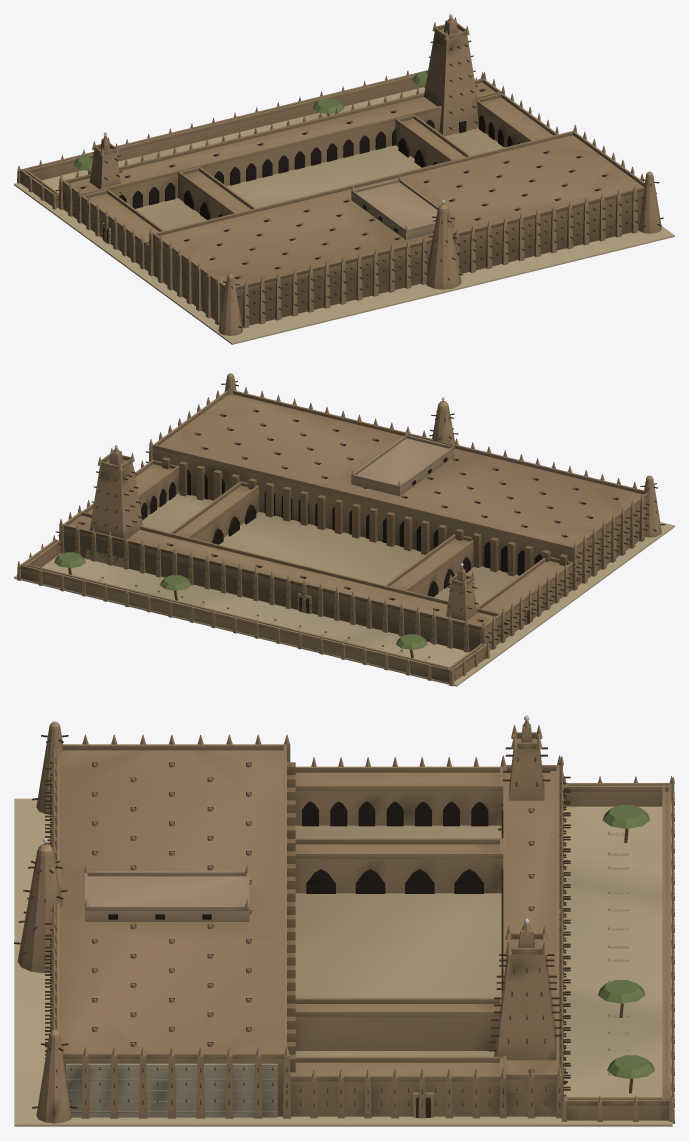
File: djinguereber-1700.glb
3 views of the same model, one above another, from view 1: azimuth 30°, elevation 25°; view 2: azimuth 150°, elevation 25°; view 3: azimuth 270°, elevation 25° (orthographic). The views are drawn at different scales.
Visible parts, largest first — view 1: p1_walls, p0_ground, p3_minaret, p2_roof; view 2: p1_walls, p0_ground, p2_roof, p3_minaret; view 3: p1_walls, p0_ground, p3_minaret, p2_roof.
Boxes of the visible parts, left/top/right/bottom form: p1_walls: left=17, top=68, right=656, bottom=328; p0_ground: left=14, top=71, right=674, bottom=344; p3_minaret: left=88, top=14, right=663, bottom=335; p2_roof: left=80, top=88, right=608, bottom=278; p1_walls: left=17, top=387, right=656, bottom=686; p0_ground: left=14, top=493, right=674, bottom=686; p2_roof: left=78, top=408, right=618, bottom=621; p3_minaret: left=85, top=373, right=665, bottom=621; p1_walls: left=45, top=734, right=674, bottom=1123; p0_ground: left=14, top=798, right=672, bottom=1126; p3_minaret: left=14, top=715, right=567, bottom=1123; p2_roof: left=84, top=762, right=534, bottom=1073.
Size of the model in its own units: 82.33 by 19.75 by 70.31.
